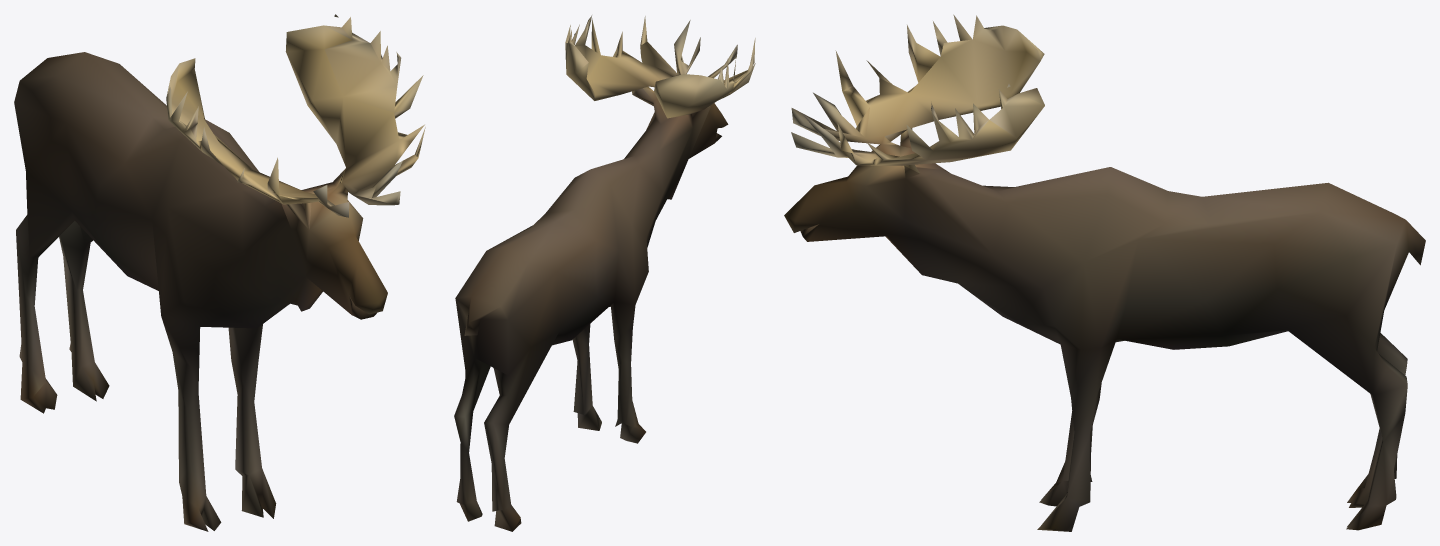
Rendered from beast-moose-tiny.glb.
3 views of the same model, side by side, from view 1: azimuth 30°, elevation 25°; view 2: azimuth 150°, elevation 25°; view 3: azimuth 270°, elevation 25° (orthographic). The views are drawn at different scales.
Size of the model in its own units: 0.738 by 1.62 by 2.01.
